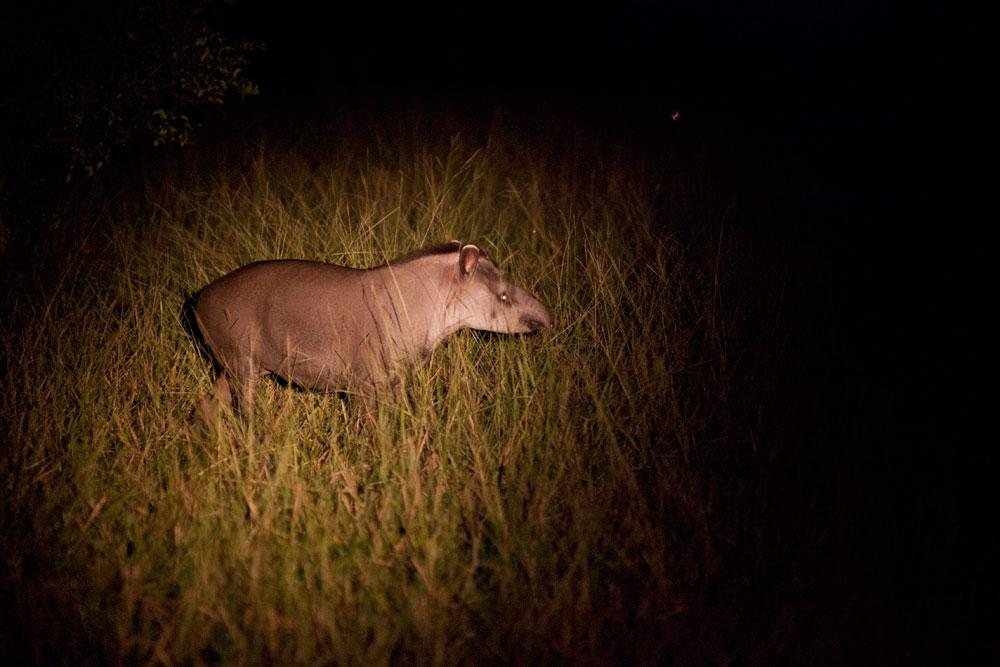Anta: (175, 231, 571, 435)
